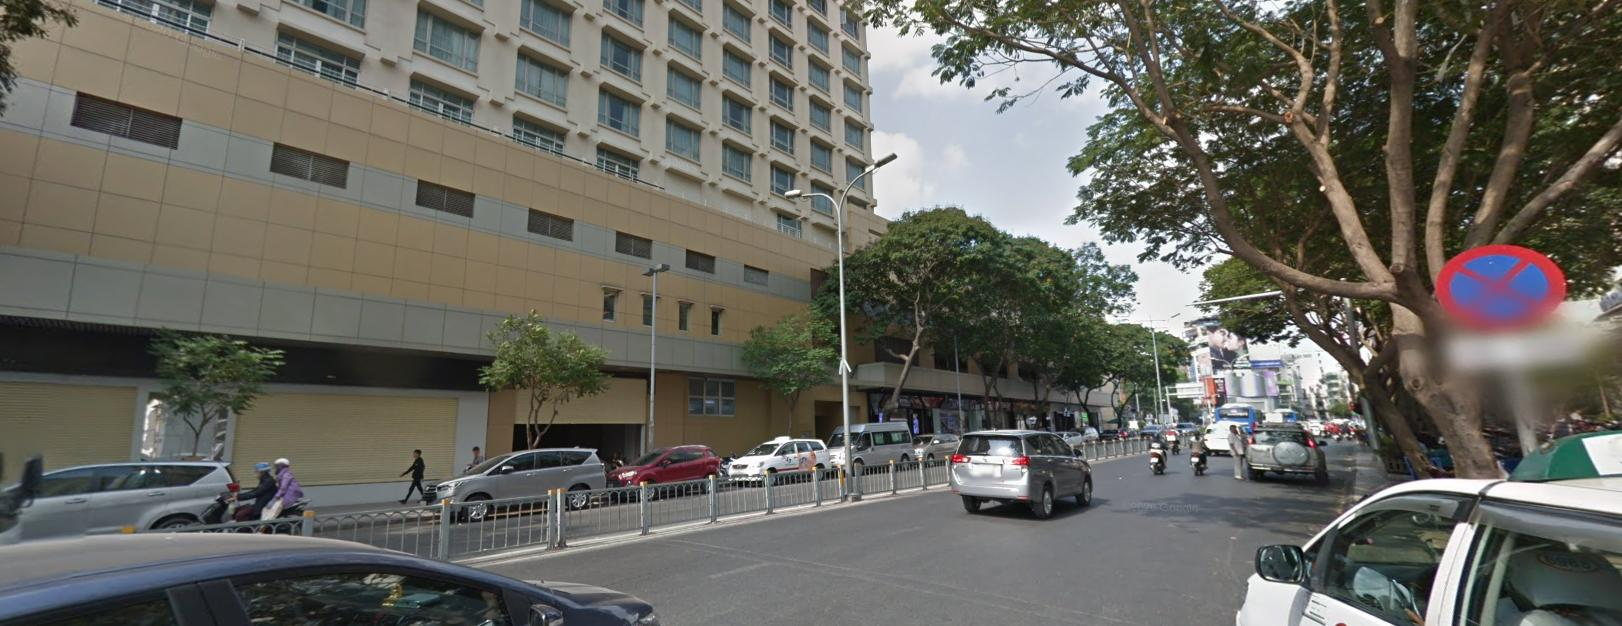Cam dung va do: (1435, 240, 1564, 326)
